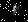person: (15, 5, 23, 17)
